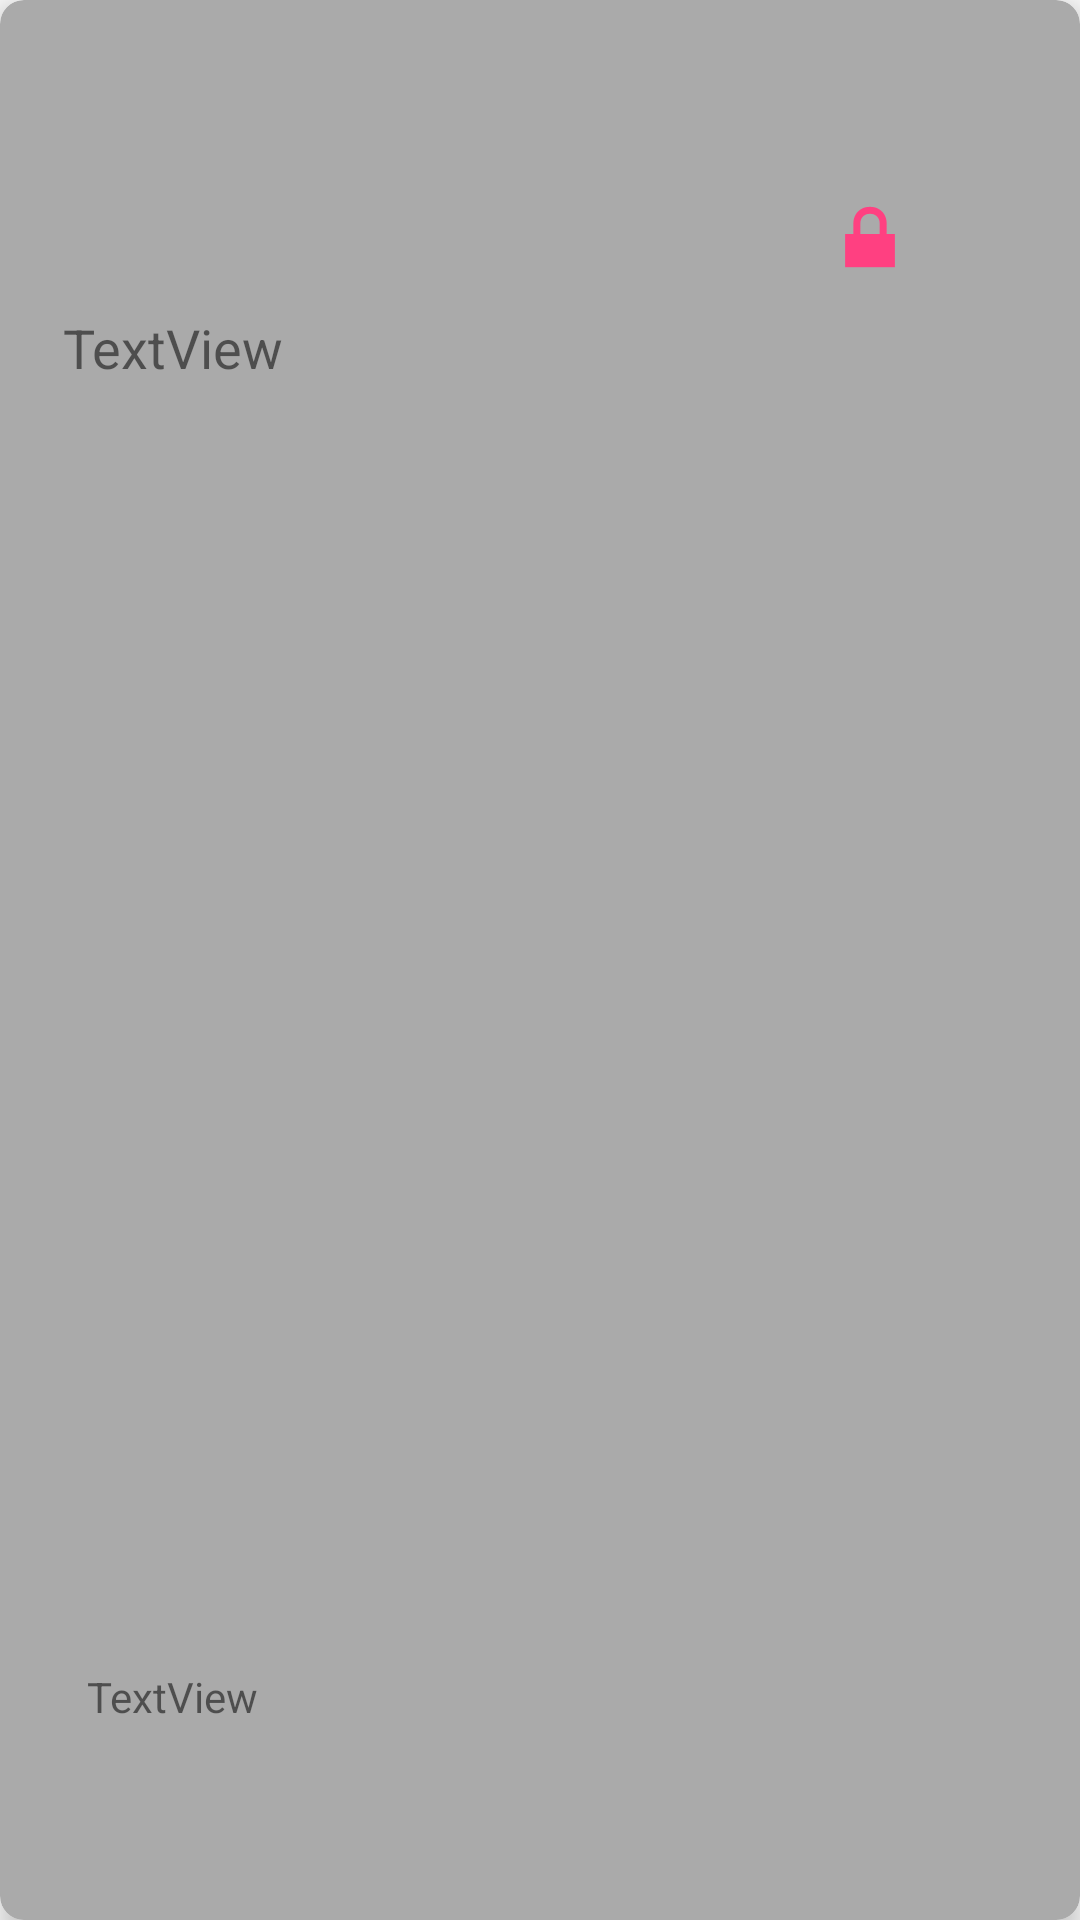

Screen size 1080*1920. Icon name, then its box in pixels as [x1,y1,x2,y2]:
lock: [845,207,895,267]
